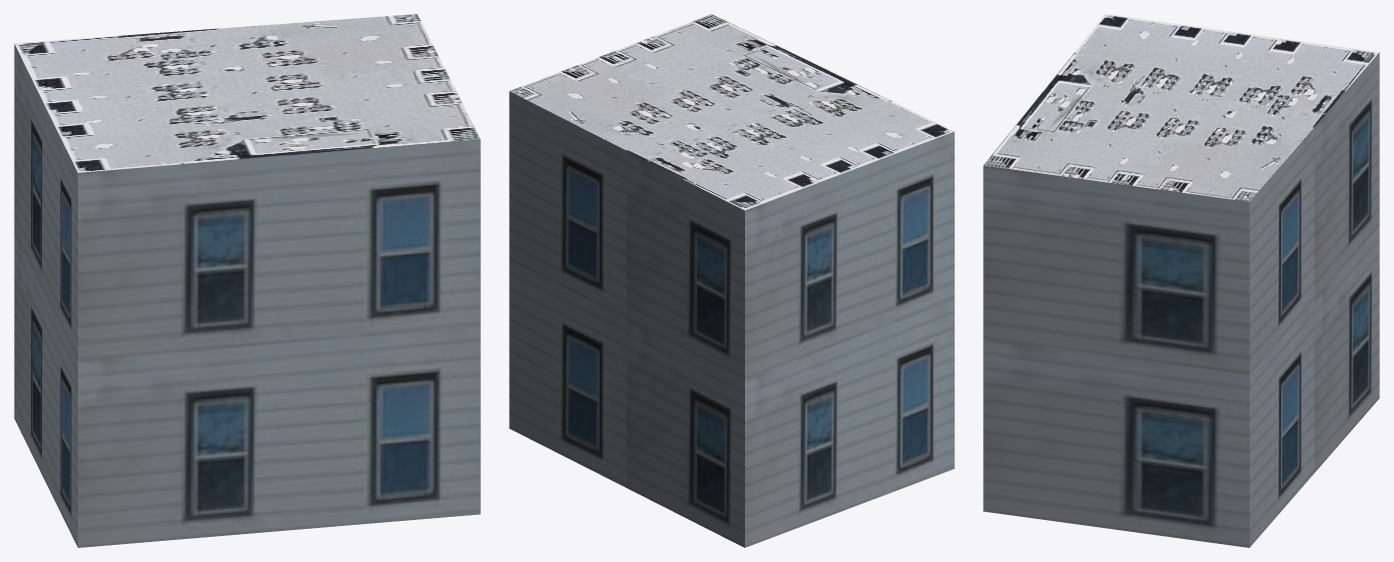
File: ResTex__396.fbx
3 views of the same model, side by side, from view 1: azimuth 30°, elevation 25°; view 2: azimuth 150°, elevation 25°; view 3: azimuth 270°, elevation 25° (orthographic). The views are drawn at different scales.
Parts seen in each view (by area): view 1: CityEngineMaterial_18_m, CityEngineMaterial_m; view 2: CityEngineMaterial_18_m, CityEngineMaterial_m; view 3: CityEngineMaterial_18_m, CityEngineMaterial_m.
Boxes of the visible parts, box(x1,y1,x2,y2) form: CityEngineMaterial_18_m: box(14, 44, 480, 547); CityEngineMaterial_m: box(14, 14, 480, 172); CityEngineMaterial_18_m: box(509, 91, 954, 547); CityEngineMaterial_m: box(509, 14, 954, 210); CityEngineMaterial_18_m: box(983, 52, 1379, 547); CityEngineMaterial_m: box(983, 14, 1379, 201).
Size of the model in its own units: 6.99 by 6 by 6.23.
2 materials, 2 textured.
